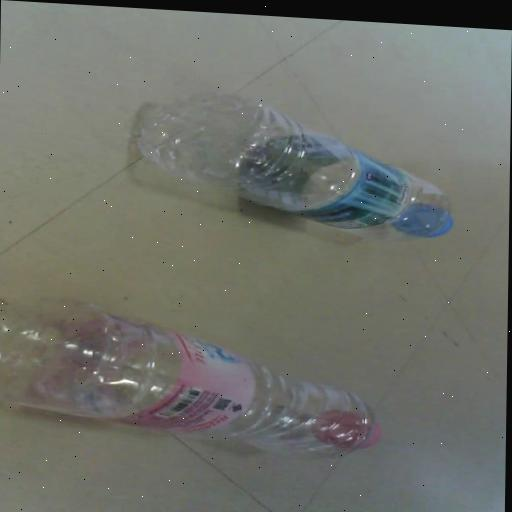bottle: (0, 290, 381, 462), (129, 85, 454, 242)
